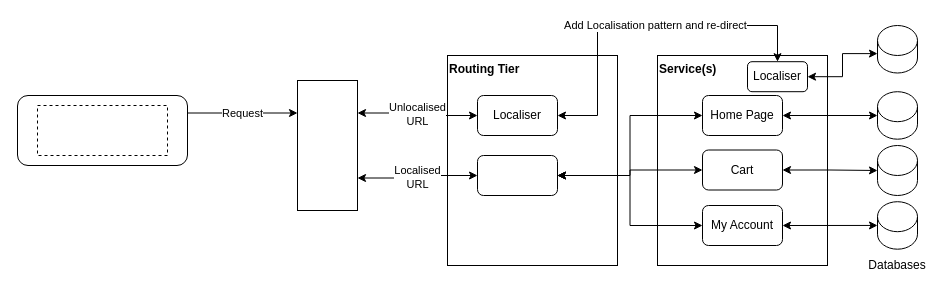
Image size: 943x293. Some labels were removed from this diagram. Here are the shapes that lost their labels. From the top down, the centre of each, then its label:
At (x=102, y=130): "User Interface".
At (x=327, y=145): "CDN".
At (x=517, y=175): "Router".
